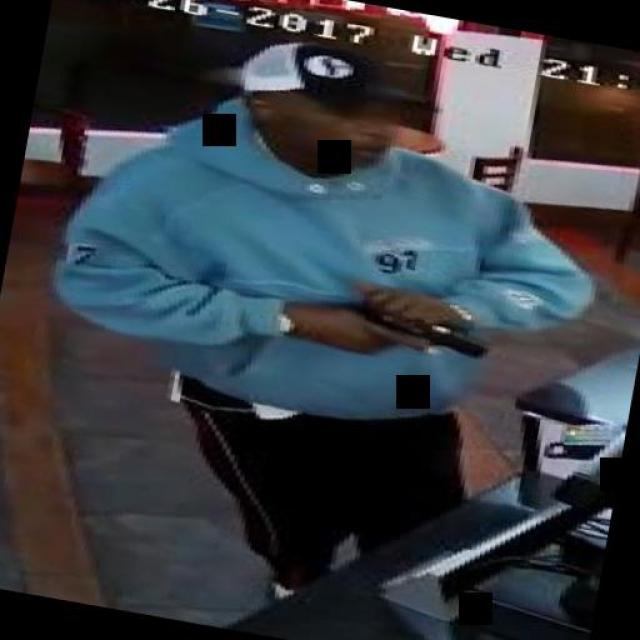gun: (324, 294, 494, 372)
